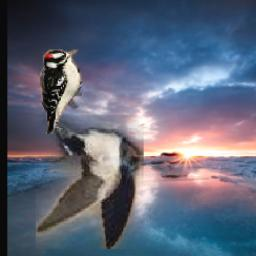Swallow: (37, 115, 145, 249)
Woodpecker: (40, 49, 82, 134)
